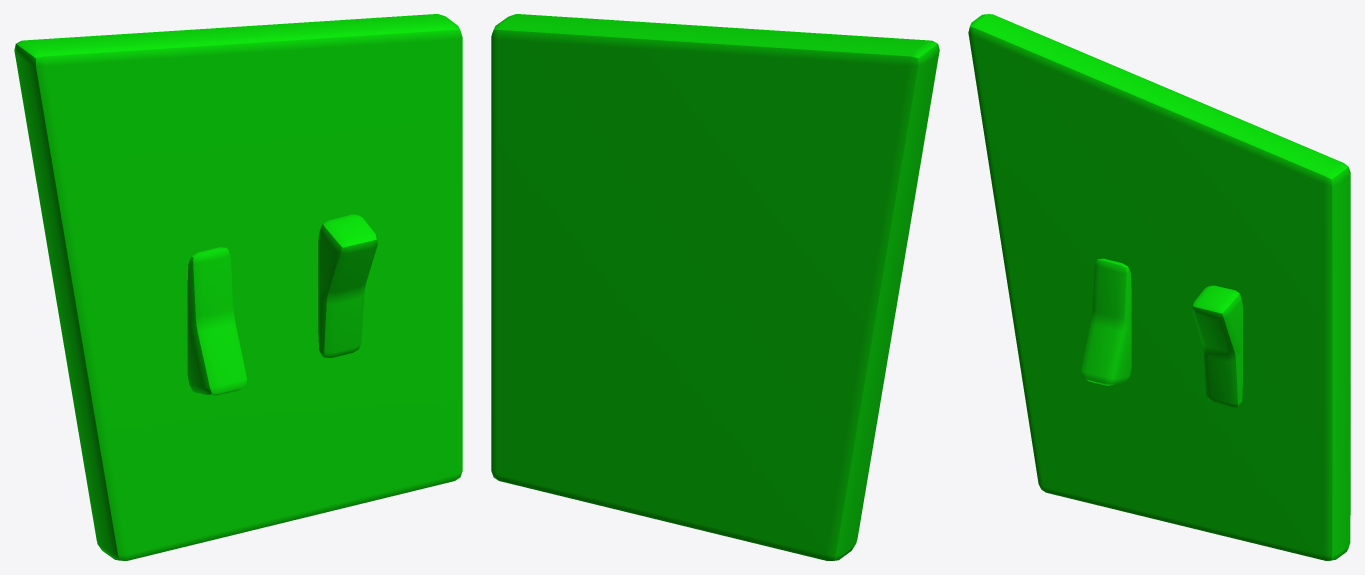
Rendered from Switch_msh.fbx.
3 renders of one model, left to right at view 1: azimuth 30°, elevation 25°; view 2: azimuth 150°, elevation 25°; view 3: azimuth 330°, elevation 25°, orthographic. The views are drawn at different scales.
Visible parts, largest first — view 1: Switch_msh; view 2: Switch_msh; view 3: Switch_msh.
Part boxes in pixels (bbox=[...]): Switch_msh: bbox=[14, 14, 462, 560]; Switch_msh: bbox=[491, 14, 939, 560]; Switch_msh: bbox=[968, 14, 1350, 560].
Size of the model in its own units: 9.95 by 11.67 by 1.84.
